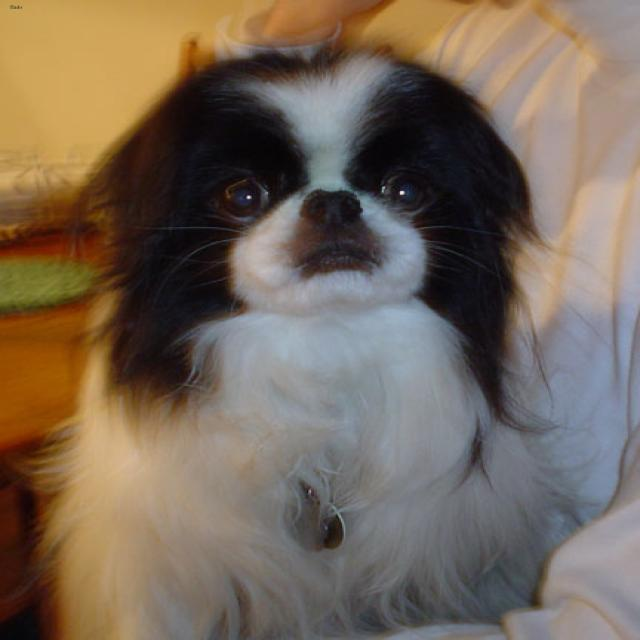dog-japanese_chin: (3, 38, 585, 637)
